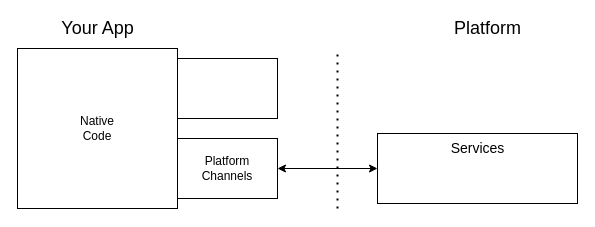
Image size: 595x227. Some labels were removed from this diagram. Each missing label, with the box of its shape:
Location, Audio, GPS, etc.: (376, 132, 578, 204)
Widgets, Rendering: (176, 58, 278, 118)
